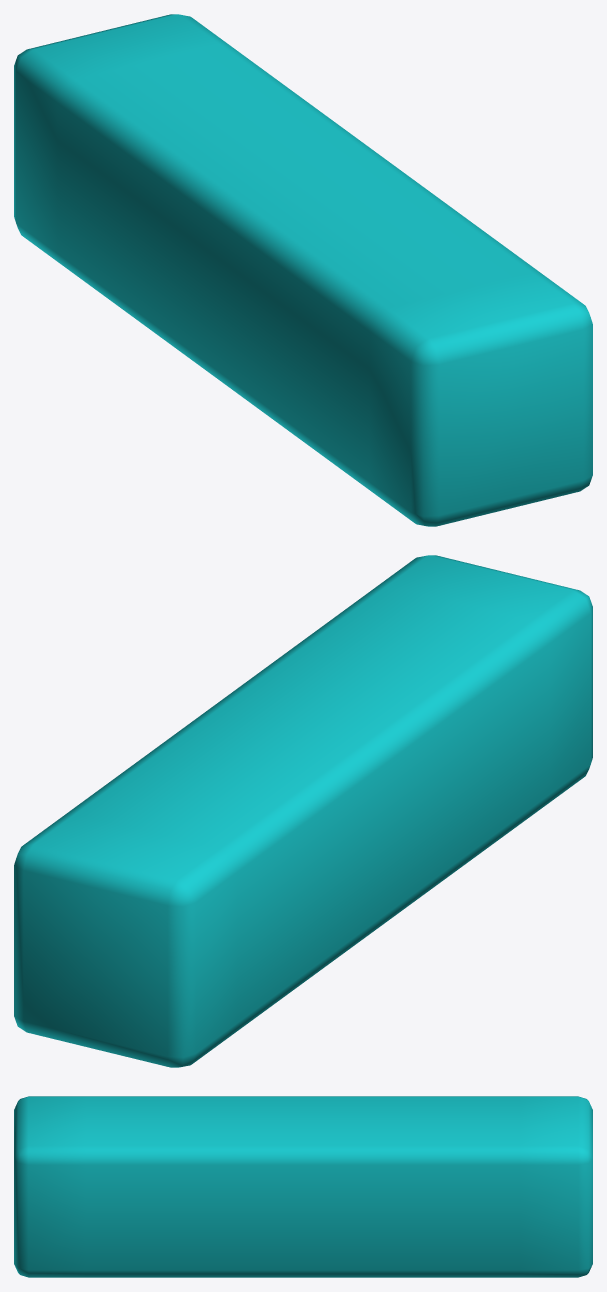
Rendered from tetrisI.obj.
3 views of the same model, one above another, from view 1: azimuth 30°, elevation 25°; view 2: azimuth 150°, elevation 25°; view 3: azimuth 270°, elevation 25° (orthographic). The views are drawn at different scales.
Visible parts, largest first — view 1: Cube; view 2: Cube; view 3: Cube.
Boxes of the visible parts, x1,y1,x2,y2 form: Cube: (14,14,592,526); Cube: (14,555,592,1067); Cube: (14,1096,592,1277).
Size of the model in its own units: 0.15 by 0.15 by 0.6.
